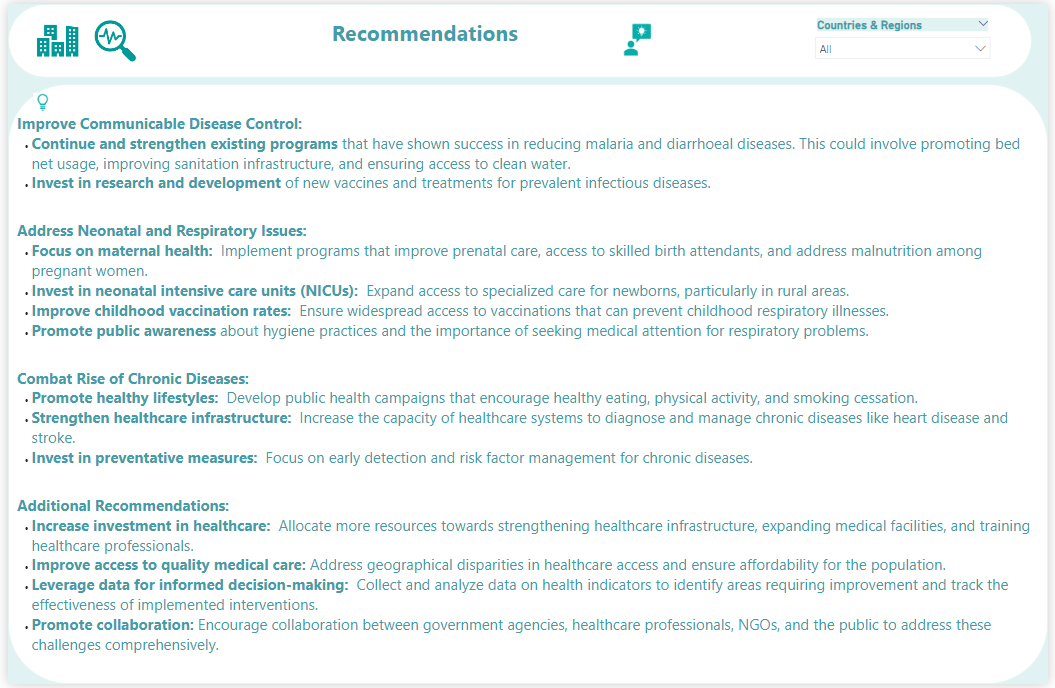

The dashboard page shown, as its layout file describes it:
{"tool":"powerbi","page":{"name":"Recommendation","canvas":[1300,850],"ordinal":4},"visuals":[{"type":"shape","box":[0,0,1280,92],"z":0},{"type":"slicer","fields":{"Values":["Comparison_of_health_situations_in_Nigeria_with_some_reference_countries__region.Countries & Regions"]},"box":[998.1,12.5,239.4,70.2],"z":1000},{"type":"textbox","box":[169.6,12.7,701.3,60.8],"z":2000},{"type":"image","box":[26.9,9.6,71.2,73.1],"z":3000},{"type":"image","box":[98.1,9.6,72.1,73.1],"z":4000},{"type":"shape","box":[0,100,1300,750],"z":7000},{"type":"textbox","box":[7,132,1293,718],"z":11000},{"type":"image","box":[27,106,34,34],"z":13000},{"type":"image","box":[723,16,127,58],"z":17001}]}

Visuals, with their boxes in screenshot pixels (x1, y1, x2, y2), scaled from the page's 1300x850 canvas onto the 1055x688 screenshot:
shape: <box>0,0,1039,74</box>
slicer - Comparison_of_health_situations_in_Nigeria_with_some_reference_countries__region.Countries & Regions: <box>810,10,1004,67</box>
textbox: <box>138,10,707,59</box>
image: <box>22,8,80,67</box>
image: <box>80,8,138,67</box>
shape: <box>0,81,1054,687</box>
textbox: <box>6,107,1054,687</box>
image: <box>22,86,50,113</box>
image: <box>587,13,690,60</box>
